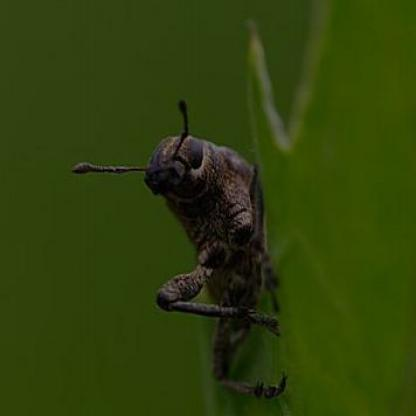rice-bug: (140, 118, 284, 394)
